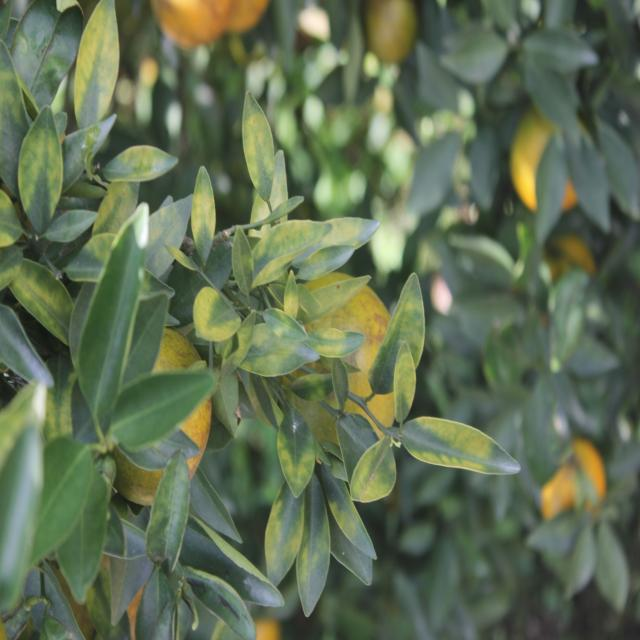greening: (402, 414, 523, 477), (374, 276, 436, 390), (70, 0, 121, 128), (18, 107, 67, 232), (249, 216, 329, 287), (104, 141, 178, 189), (241, 98, 277, 194), (278, 409, 318, 494), (265, 494, 306, 568), (193, 285, 239, 341), (193, 169, 217, 263)
